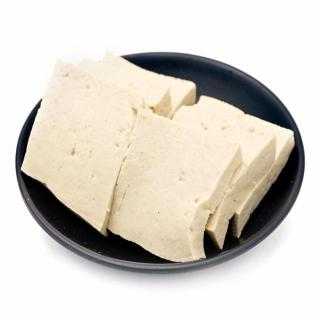Tahu: (8, 44, 294, 250)
